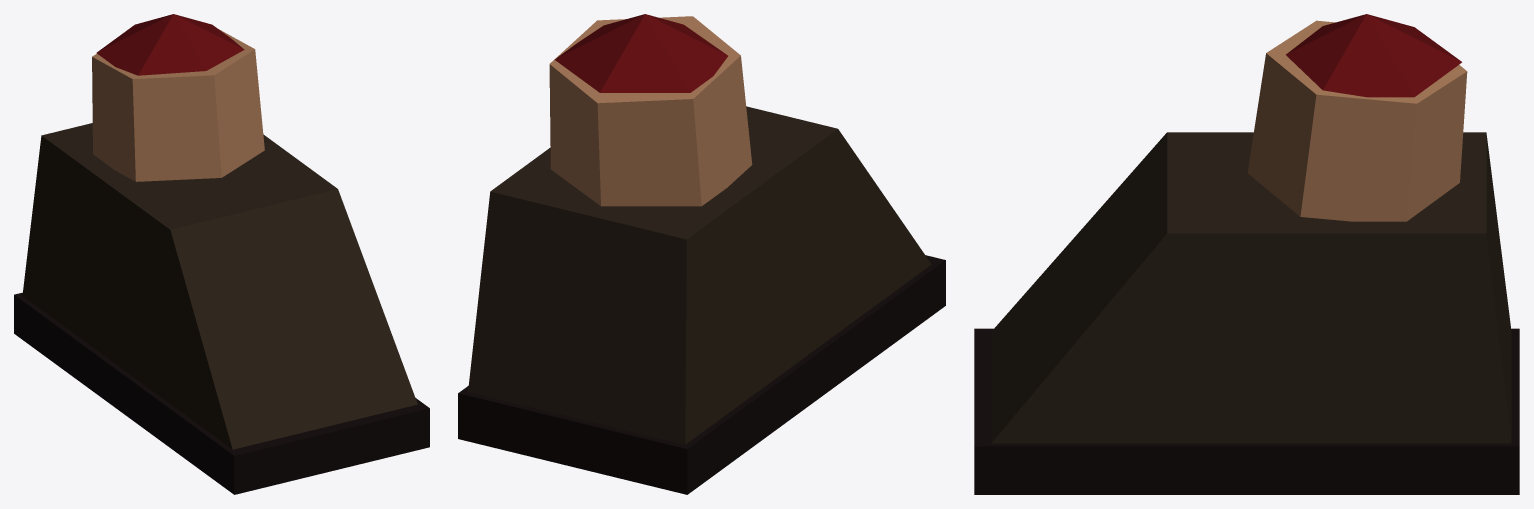
The model's file is gib_11.glb.
The picture shows the model from 3 angles, left to right: view 1: azimuth 30°, elevation 25°; view 2: azimuth 150°, elevation 25°; view 3: azimuth 270°, elevation 25°; orthographic projection. The views are drawn at different scales.
Visible parts, largest first — view 1: gib_11; view 2: gib_11; view 3: gib_11.
Boxes of the visible parts, bbox=[...] form: gib_11: bbox=[14, 14, 429, 494]; gib_11: bbox=[458, 14, 945, 494]; gib_11: bbox=[974, 14, 1519, 494].
Bounding box in the file's own units: 0.105 × 0.175 × 0.205.
